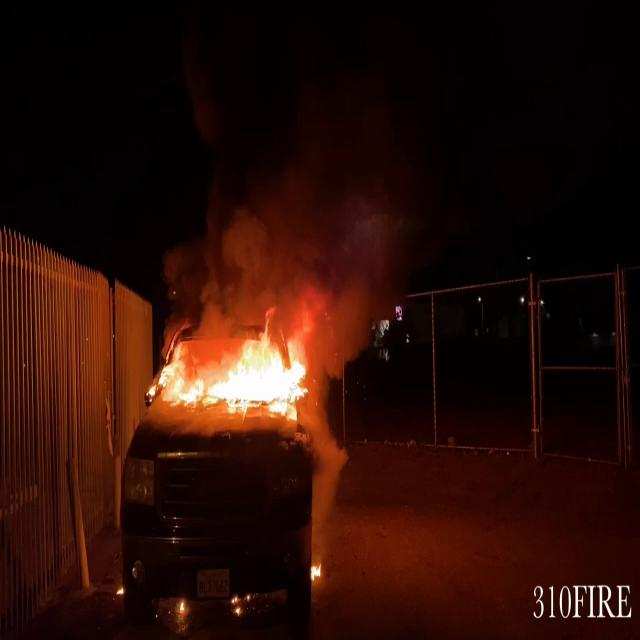Fire: (146, 319, 318, 425)
Smoke: (216, 118, 406, 353)
